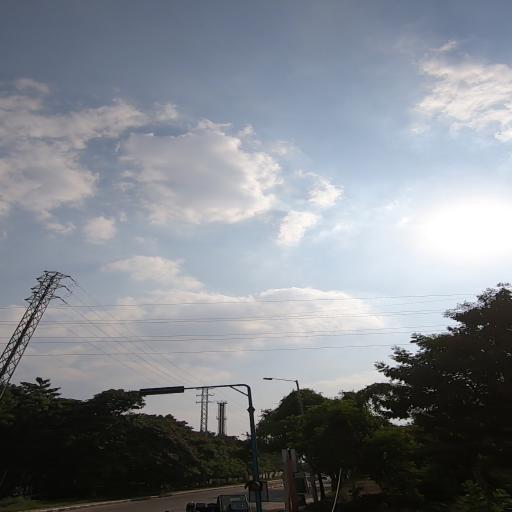Street_light: (255, 375, 302, 386)
